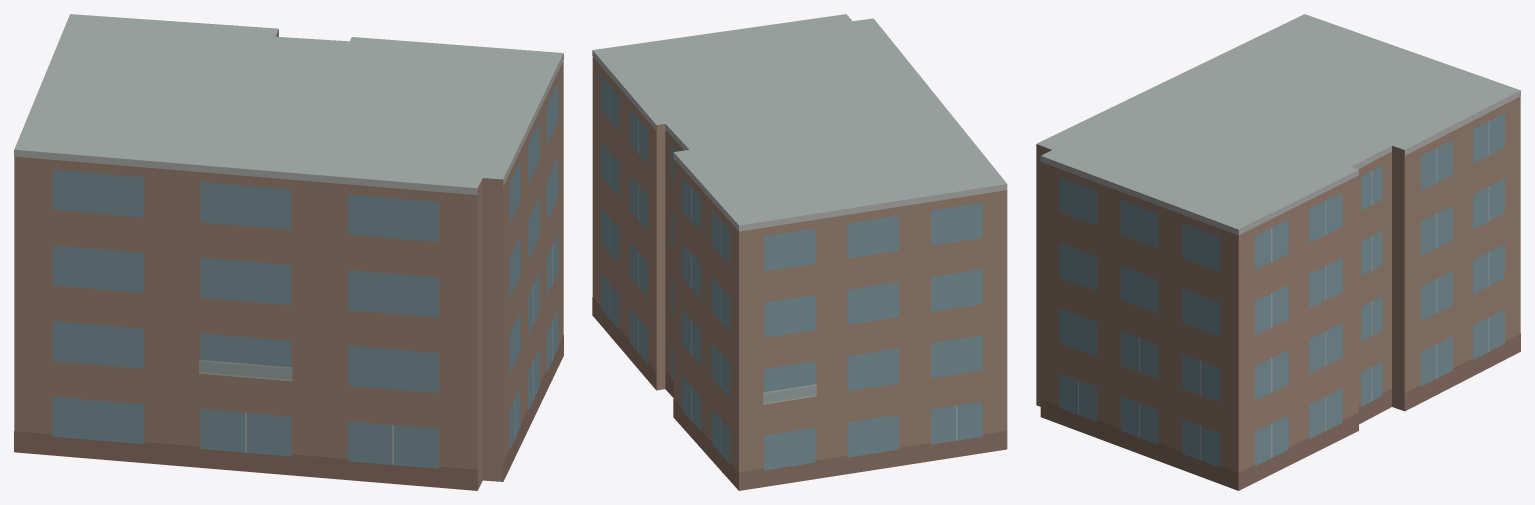
Rendered from survey-upis-32778872.glb.
3 views of the same model, side by side, from view 1: azimuth 30°, elevation 25°; view 2: azimuth 150°, elevation 25°; view 3: azimuth 270°, elevation 25° (orthographic). The views are drawn at different scales.
Parts seen in each view (by area): view 1: survey-upis-32778872.tmp; view 2: survey-upis-32778872.tmp; view 3: survey-upis-32778872.tmp.
Boxes of the visible parts, box(x1,y1,x2,y2) form: survey-upis-32778872.tmp: box(14, 14, 563, 490); survey-upis-32778872.tmp: box(592, 14, 1007, 490); survey-upis-32778872.tmp: box(1036, 14, 1520, 490).
Bounding box in the file's own units: 19.11 × 10.8 × 18.16.
